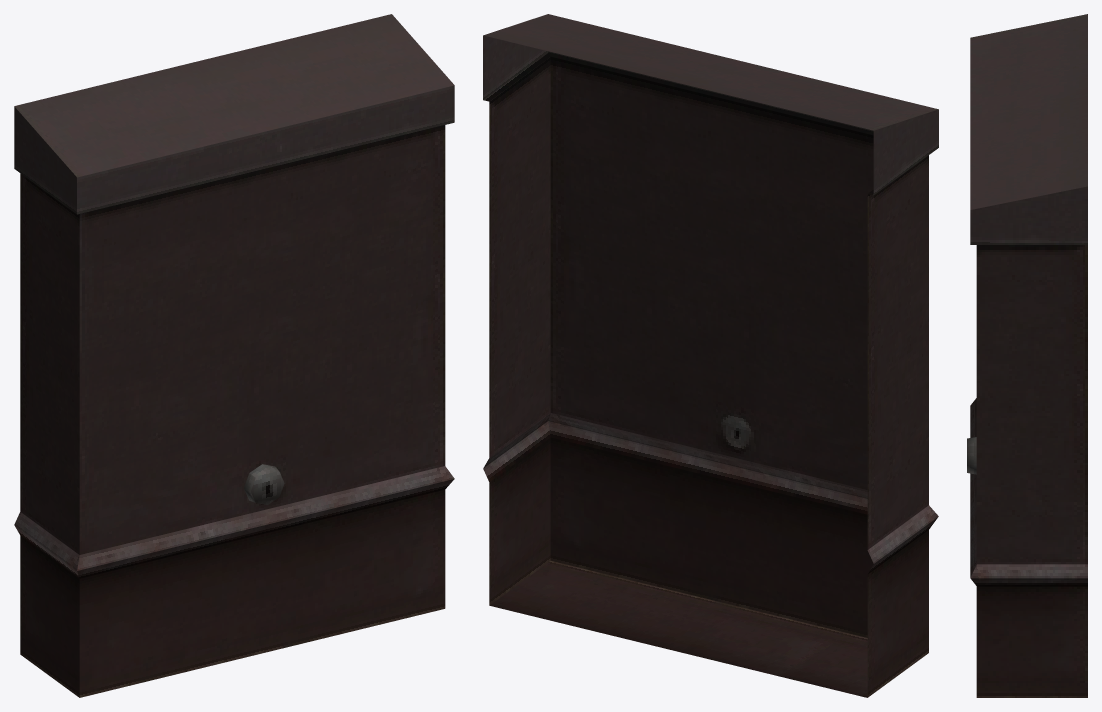
Rendered from mail_box_mx_1_1.glb.
3 renders of one model, left to right at view 1: azimuth 30°, elevation 25°; view 2: azimuth 150°, elevation 25°; view 3: azimuth 270°, elevation 25°, orthographic. The views are drawn at different scales.
Parts seen in each view (by area): view 1: mail_box_mx_1_1; view 2: mail_box_mx_1_1; view 3: mail_box_mx_1_1.
Part boxes in pixels (<box>): mail_box_mx_1_1: <box>14,14,454,697</box>; mail_box_mx_1_1: <box>483,14,938,697</box>; mail_box_mx_1_1: <box>967,14,1087,697</box>.
Bounding box in the file's own units: 0.312 × 0.434 × 0.0925.
Materials: 1 (1 with a texture image).
